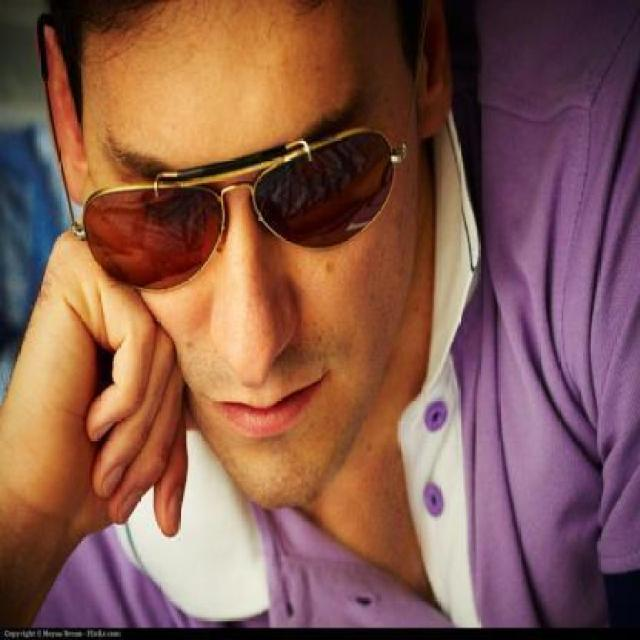face_nomask: (87, 133, 408, 450)
glasses: (41, 0, 440, 295)
hand_noglove: (31, 224, 192, 539)
